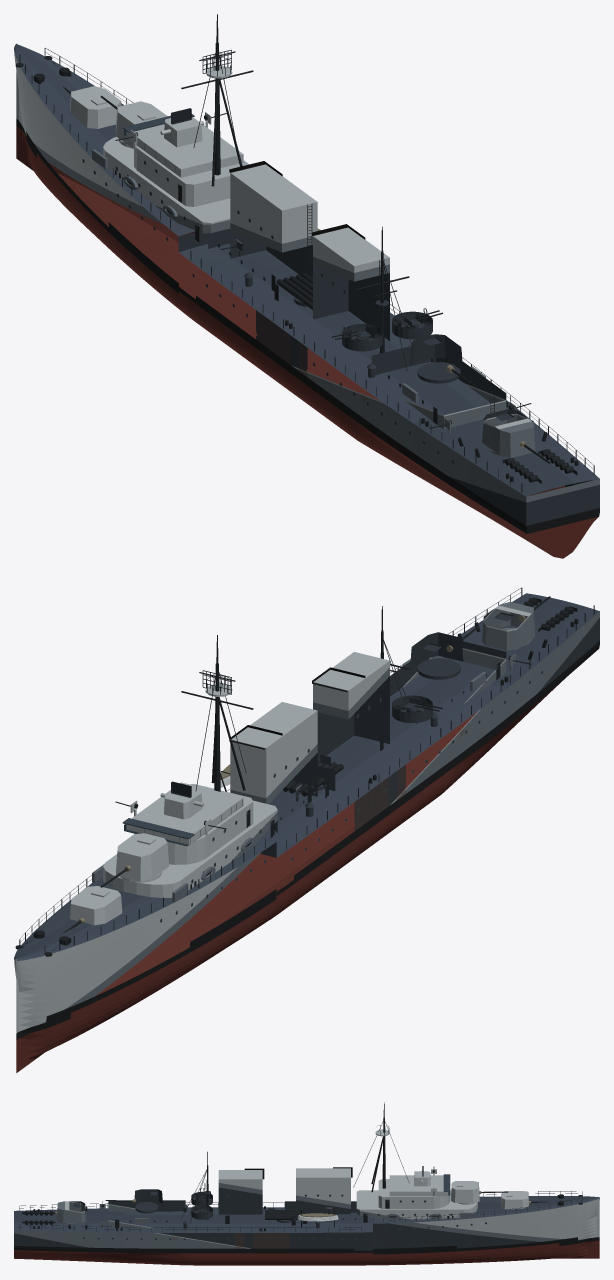
The model's file is benson_m22.glb.
3 views of the same model, one above another, from view 1: azimuth 30°, elevation 25°; view 2: azimuth 150°, elevation 25°; view 3: azimuth 270°, elevation 25° (orthographic). The views are drawn at different scales.
Visible parts, largest first — view 1: Hull, Mount54, Mount53, Mount51, Director, Mount52, Torpedo1; view 2: Hull, Mount52, Mount54, Mount53, Mount51, Director; view 3: Hull, Mount52, Mount54, Mount53, Mount51, Torpedo1, Director.
Boxes of the visible parts, x1,y1,x2,y2 form: Hull: (14,14,599,558); Mount54: (482,409,550,463); Mount53: (410,334,478,388); Mount51: (63,86,121,128); Director: (160,108,204,147); Mount52: (100,95,167,148); Torpedo1: (276,273,312,309); Hull: (14,587,599,1072); Mount52: (100,833,169,887); Mount54: (482,596,550,650); Mount53: (410,626,478,679); Mount51: (63,886,122,933); Director: (160,781,204,819); Hull: (14,1102,599,1265); Mount52: (451,1181,508,1204); Mount54: (28,1201,85,1224); Mount53: (105,1189,162,1213); Mount51: (501,1191,548,1209); Torpedo1: (265,1208,304,1222); Director: (414,1166,430,1186).
Bounding box in the file's own units: 12.4 × 31.18 × 106.
